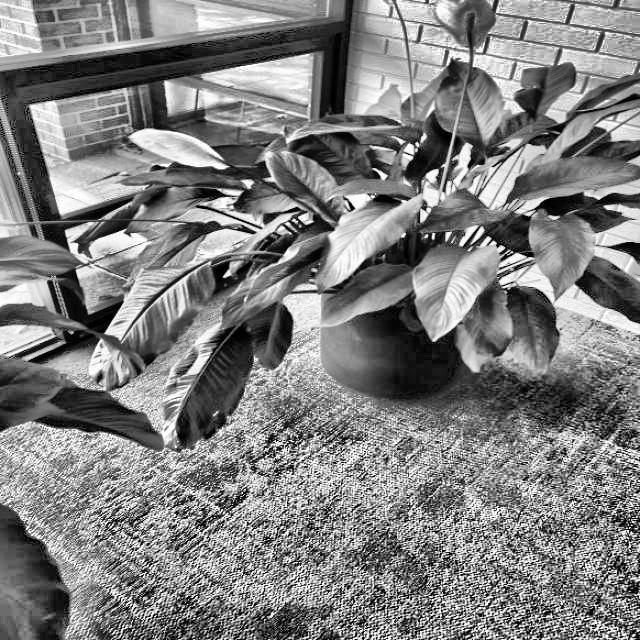plants: (203, 74, 640, 436)
